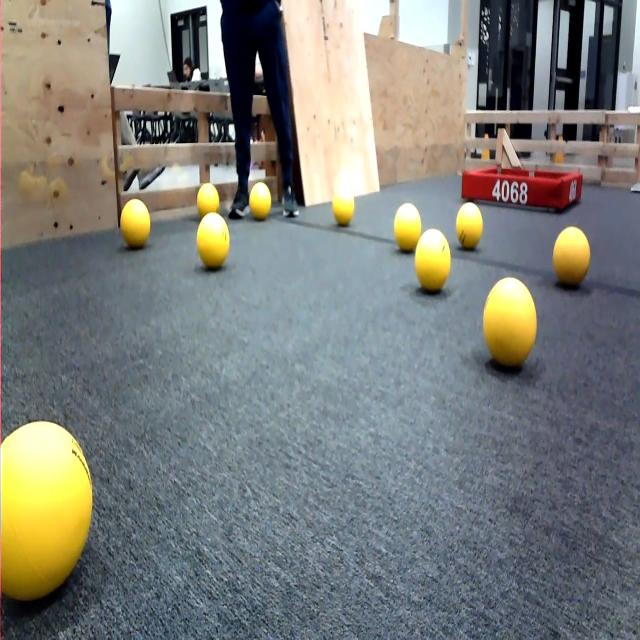Bumper: (454, 157, 589, 216)
fuel: (2, 392, 109, 604), (480, 254, 541, 387), (112, 174, 161, 261), (414, 216, 458, 311), (549, 225, 601, 302), (452, 188, 490, 269), (323, 172, 362, 242), (198, 200, 232, 275), (244, 160, 280, 230), (386, 198, 425, 261), (192, 175, 224, 222)
